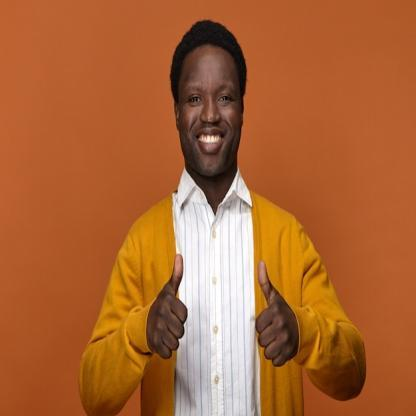thumb_up: (250, 254, 300, 369), (141, 249, 190, 362)
